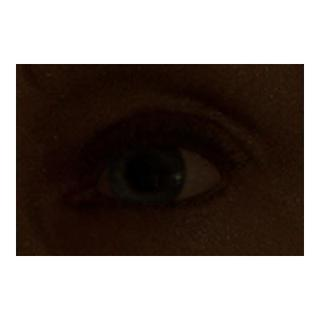pupil: (128, 154, 163, 190)
